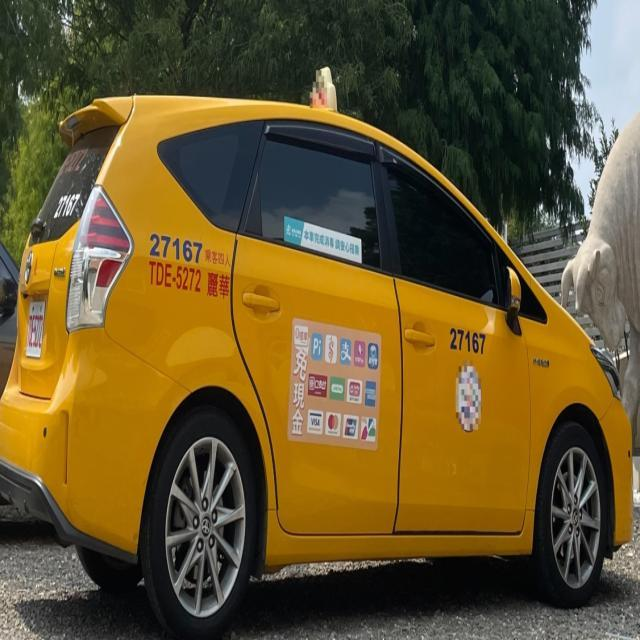taxi: (9, 55, 640, 640)
